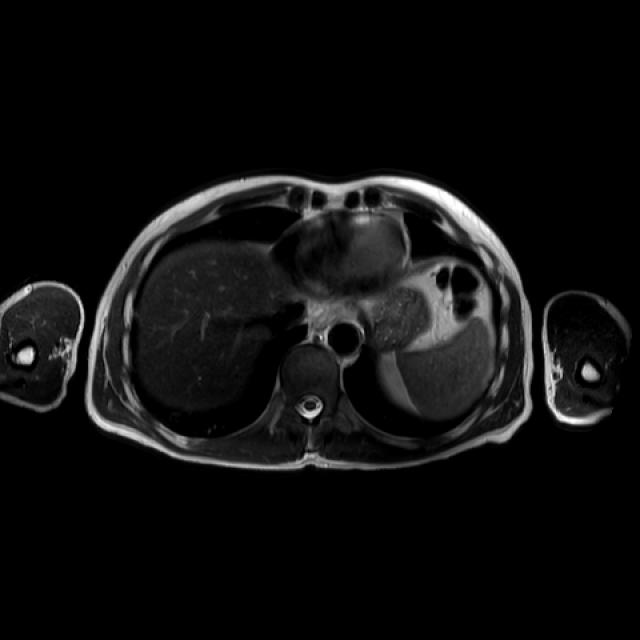sol: (383, 358, 402, 385)
